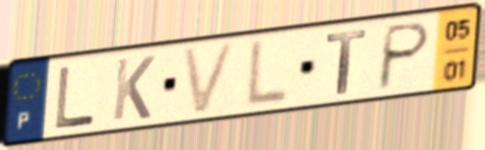K: (109, 53, 158, 124)
L: (241, 36, 293, 111), (53, 64, 98, 131)
P: (374, 19, 435, 94)
T: (324, 26, 369, 97)
V: (179, 39, 241, 119)
